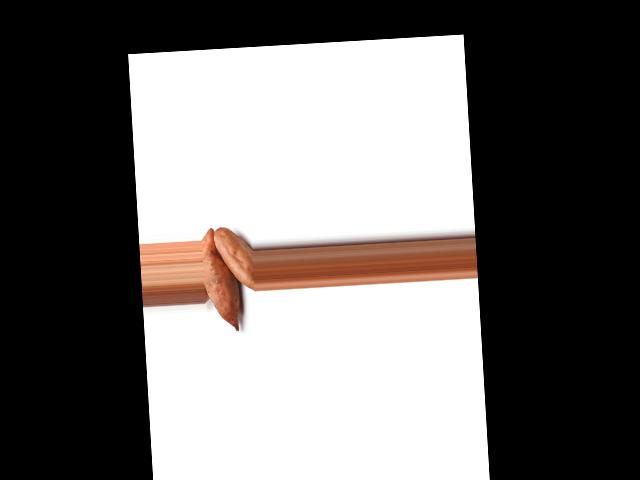sweet_potato: (214, 225, 256, 297)
